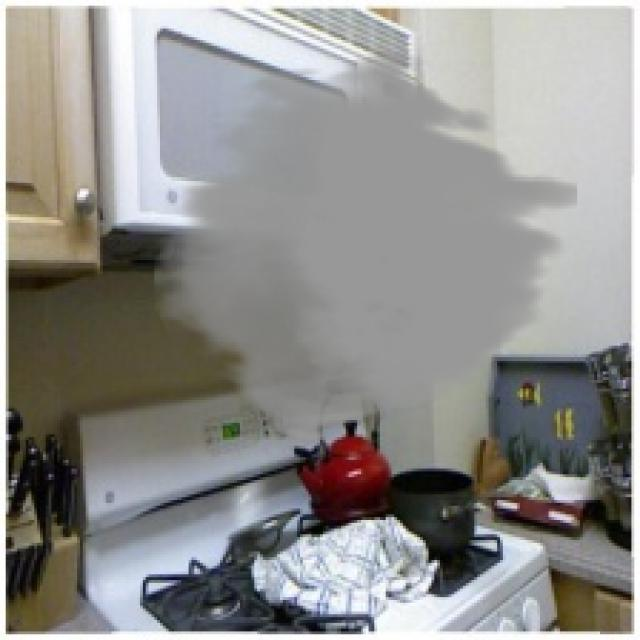smoke: (154, 48, 577, 446)
